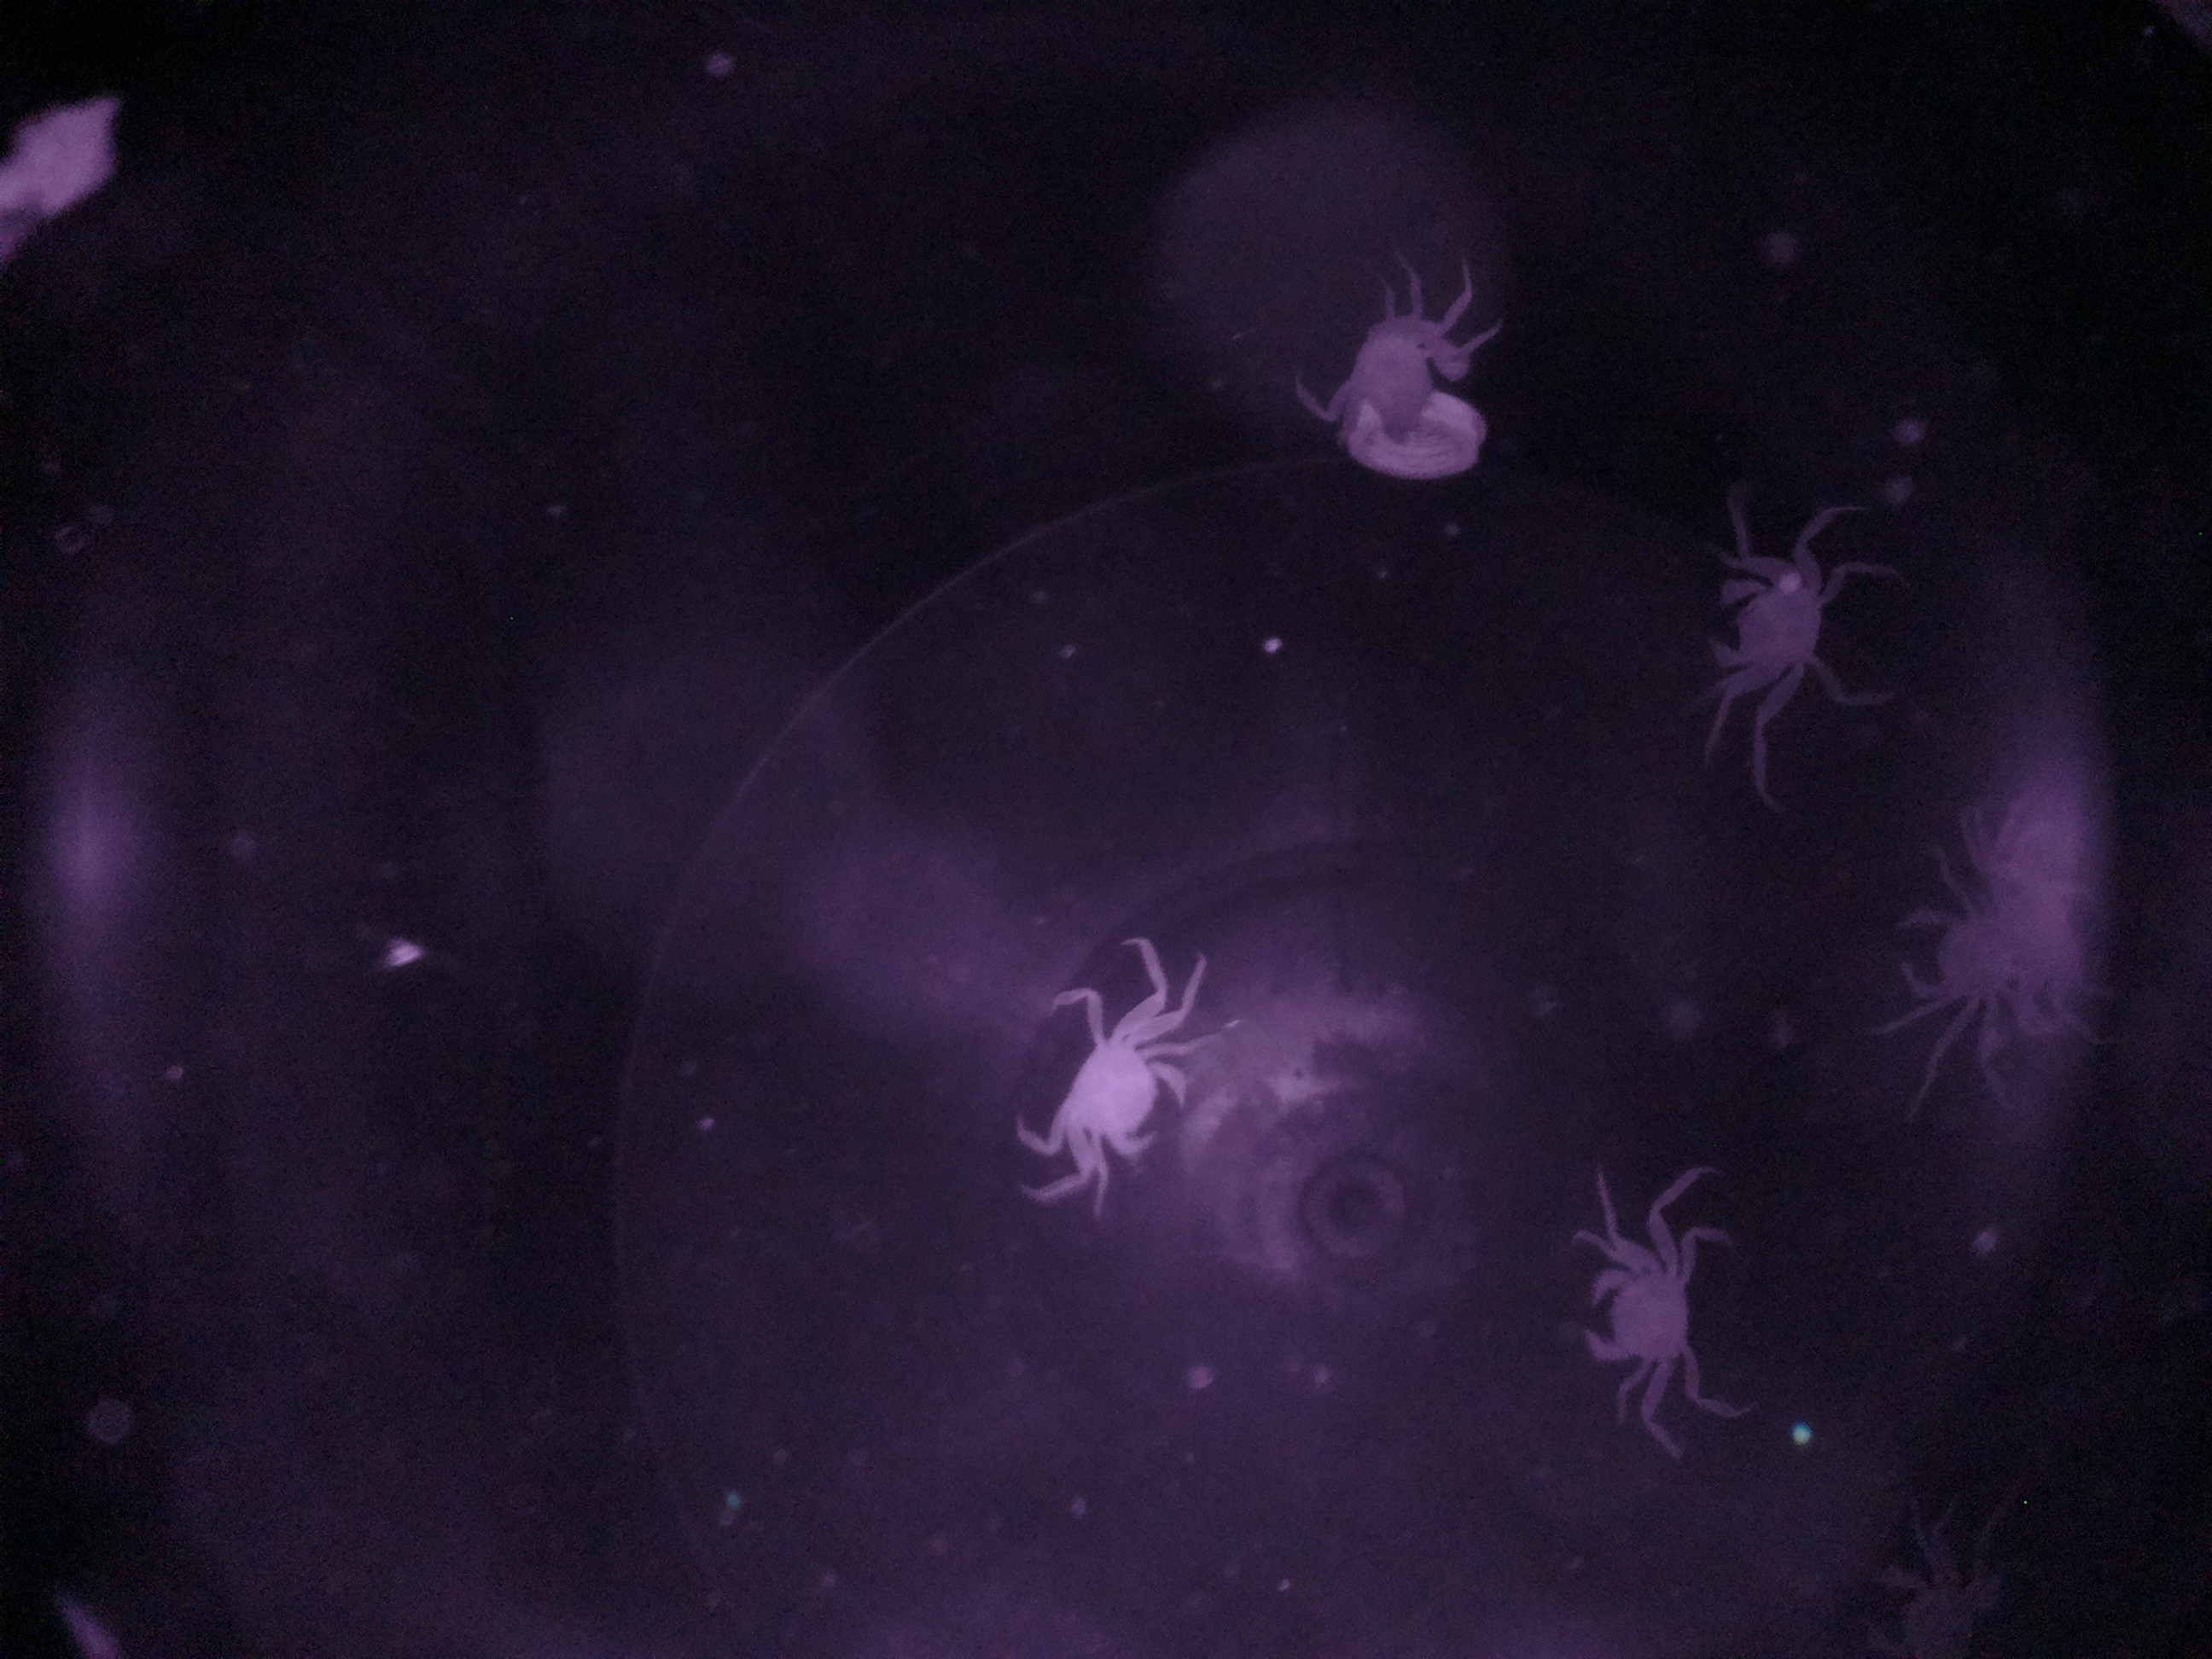Crab: (1022, 967, 1205, 1201), (1695, 502, 1869, 741), (1566, 1195, 1728, 1434)
